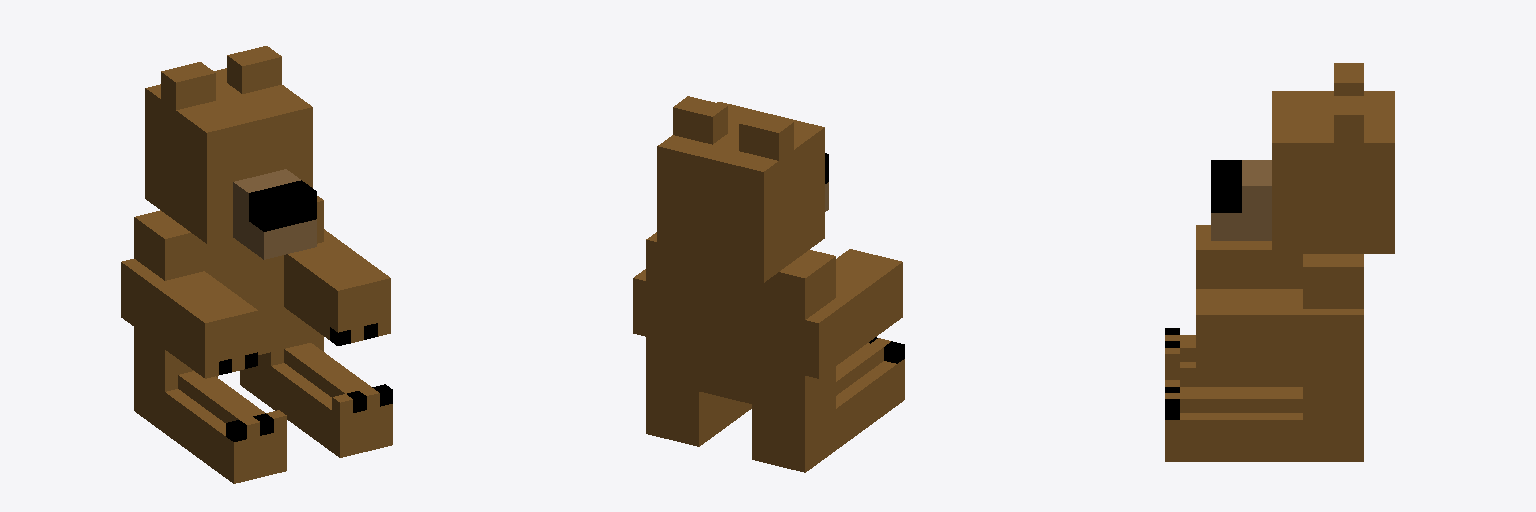
3 views of the same model, side by side, from view 1: azimuth 30°, elevation 25°; view 2: azimuth 150°, elevation 25°; view 3: azimuth 270°, elevation 25° (orthographic).
Visible parts, largest first — view 1: pre_bear; view 2: pre_bear; view 3: pre_bear.
Part boxes in pixels (left/top/right/bottom): pre_bear: left=121, top=46, right=392, bottom=483; pre_bear: left=633, top=96, right=904, bottom=472; pre_bear: left=1165, top=63, right=1394, bottom=461.
Bounding box in the file's own units: 14 × 24 × 15.
1 materials, 1 textured.